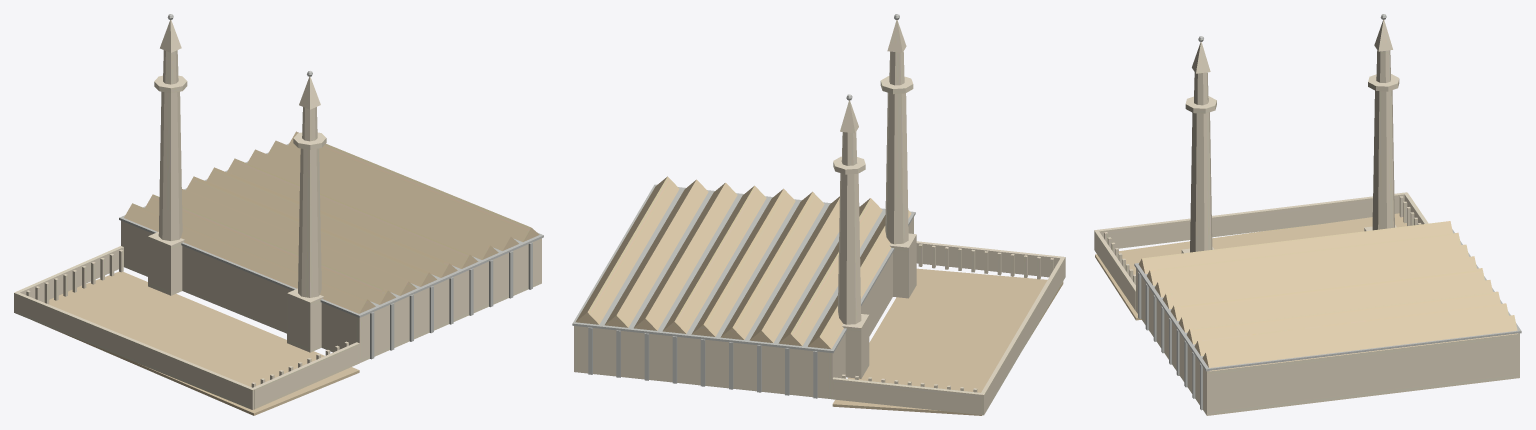
The model's file is lm_grande_mosquee.glb.
3 views of the same model, side by side, from view 1: azimuth 30°, elevation 25°; view 2: azimuth 150°, elevation 25°; view 3: azimuth 270°, elevation 25° (orthographic). The views are drawn at different scales.
Parts seen in each view (by area): view 1: LM_Grande_Mosquee; view 2: LM_Grande_Mosquee; view 3: LM_Grande_Mosquee.
Part boxes in pixels (x1,y1,x2,y2): LM_Grande_Mosquee: (14,14,543,415); LM_Grande_Mosquee: (572,14,1065,415); LM_Grande_Mosquee: (1094,14,1521,415).
Bounding box in the file's own units: 0.35 × 0.2203 × 0.3087.
1 material, 1 textured.
